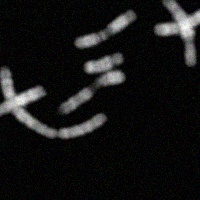chromosome: (0, 65, 108, 140), (59, 70, 126, 114), (75, 9, 137, 48), (165, 0, 197, 67), (154, 0, 200, 37), (0, 86, 46, 118), (84, 51, 123, 73)
